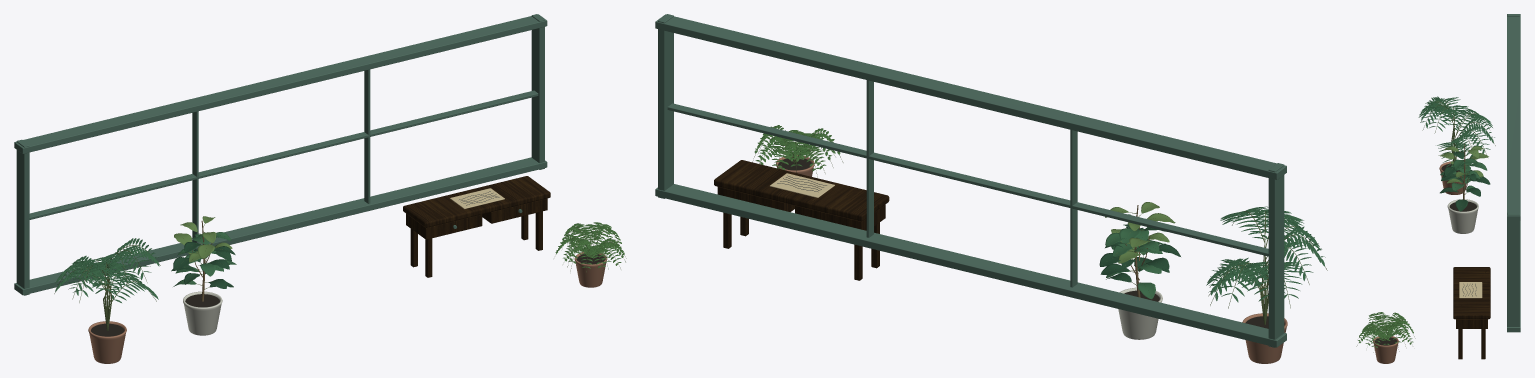
Rendered from north.glb.
3 renders of one model, left to right at view 1: azimuth 30°, elevation 25°; view 2: azimuth 150°, elevation 25°; view 3: azimuth 270°, elevation 25°, orthographic. The views are drawn at different scales.
Parts seen in each view (by area): view 1: garden-conservatory north; view 2: garden-conservatory north; view 3: garden-conservatory north.
Boxes of the visible parts, x1=… form: garden-conservatory north: x1=14, y1=14, x2=626, y2=363; garden-conservatory north: x1=655, y1=14, x2=1327, y2=363; garden-conservatory north: x1=1356, y1=14, x2=1520, y2=363.
Bounding box in the file's own units: 8.35 × 3.03 × 2.87.
Materials: 13 (1 with a texture image).
